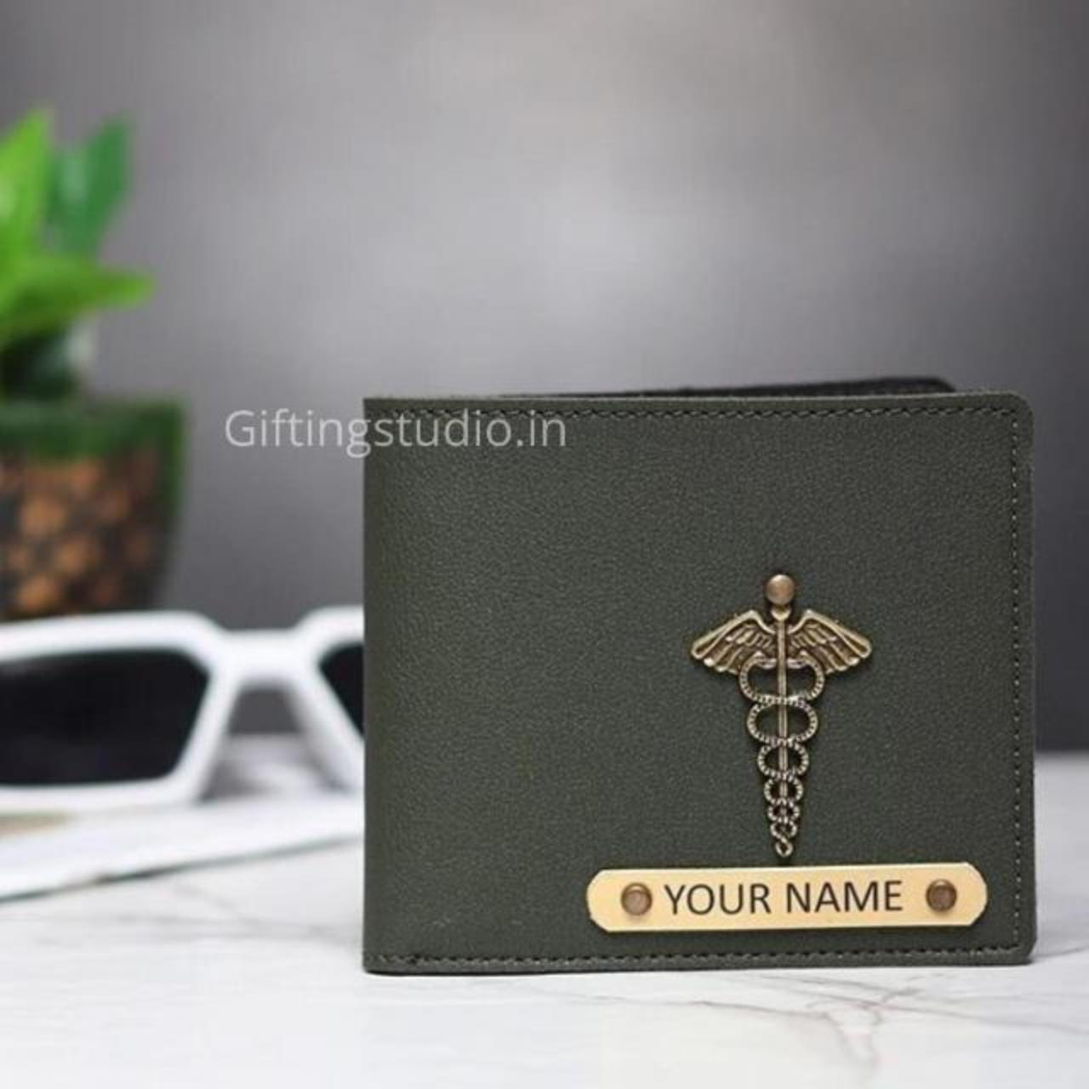wallet: (300, 356, 1059, 1013)
